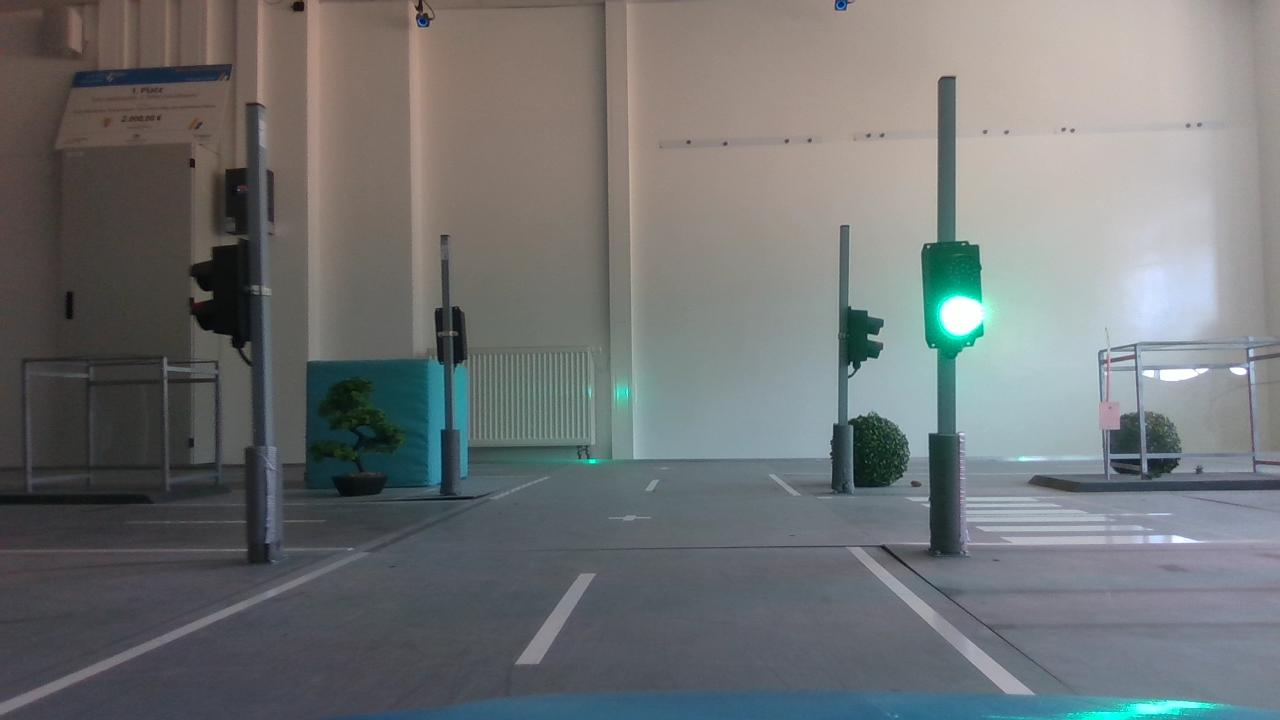traffic_light_green: (913, 231, 1000, 359)
